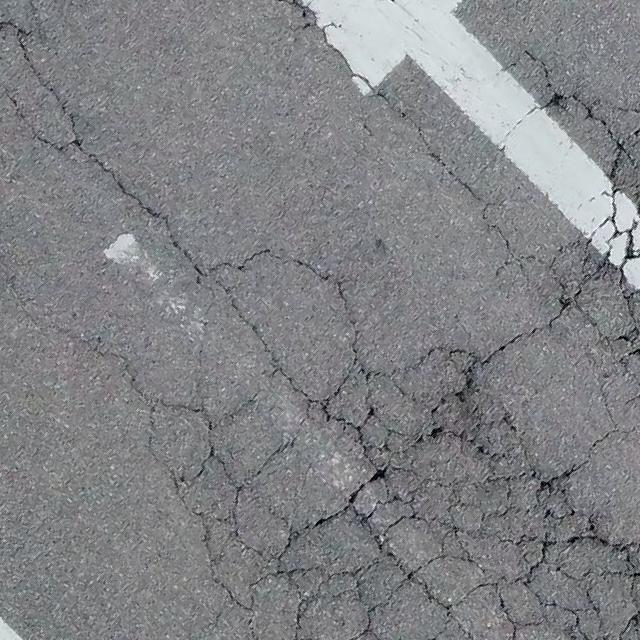GRIETA: (1, 22, 198, 269), (275, 0, 390, 103), (4, 89, 72, 152)
PIEL DE COCODRILO: (75, 39, 639, 639)
